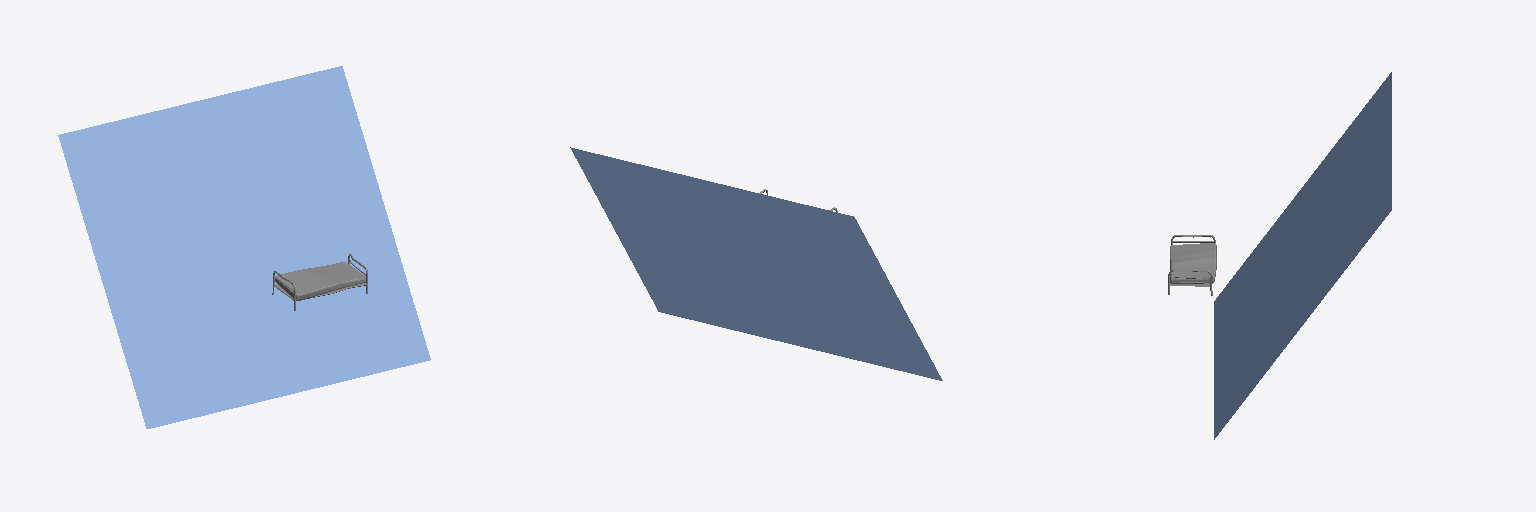
File: bed.obj
The picture shows the model from 3 angles: view 1: azimuth 30°, elevation 25°; view 2: azimuth 150°, elevation 25°; view 3: azimuth 270°, elevation 25°; orthographic projection.
Visible parts, largest first — view 1: Plane001, Gotham_Objects_Mattress; view 2: Plane001; view 3: Plane001, Gotham_Objects_Mattress, Gotham_Objects_Bedframe.
Boxes of the visible parts, box(x1,y1,x2,y2) form: Plane001: box(58, 66, 430, 428); Gotham_Objects_Mattress: box(275, 262, 365, 300); Plane001: box(570, 147, 942, 380); Plane001: box(1214, 72, 1391, 439); Gotham_Objects_Mattress: box(1170, 243, 1216, 283); Gotham_Objects_Bedframe: box(1168, 235, 1215, 295).
Bounding box in the file's own units: 990 × 764 × 673.